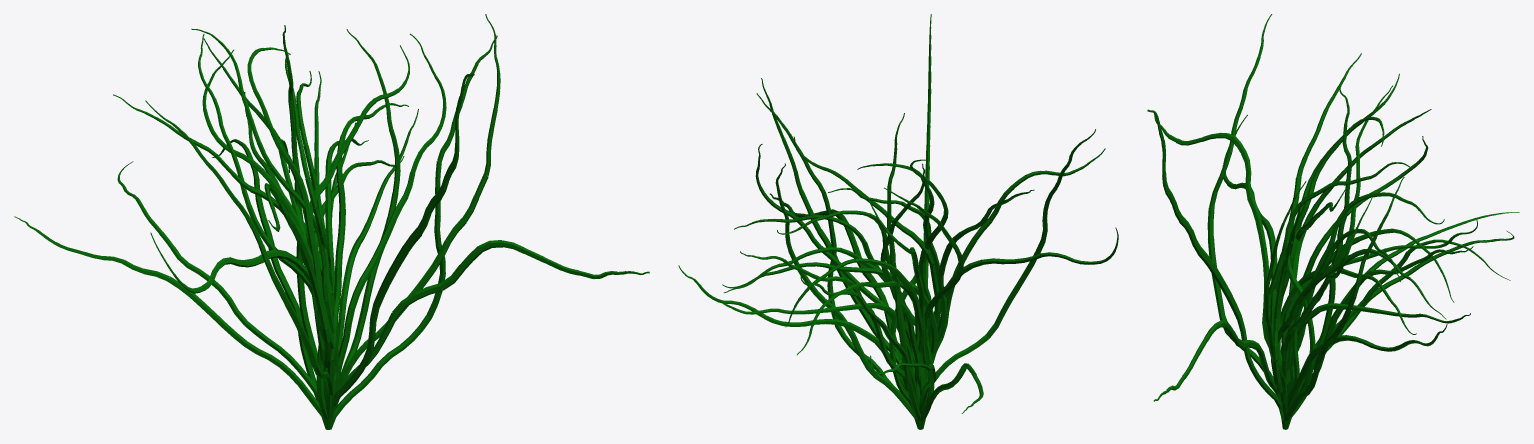
Rendered from plant3.obj.
The picture shows the model from 3 angles, left to right: view 1: azimuth 30°, elevation 25°; view 2: azimuth 150°, elevation 25°; view 3: azimuth 270°, elevation 25°; orthographic projection. The views are drawn at different scales.
Parts seen in each view (by area): view 1: aq13.obj_7; view 2: aq13.obj_7; view 3: aq13.obj_7.
Part boxes in pixels (bbox=[...]): aq13.obj_7: bbox=[14, 14, 649, 429]; aq13.obj_7: bbox=[678, 14, 1118, 429]; aq13.obj_7: bbox=[1147, 14, 1519, 429].
Bounding box in the file's own units: 0.6975 × 0.5932 × 0.5759.
